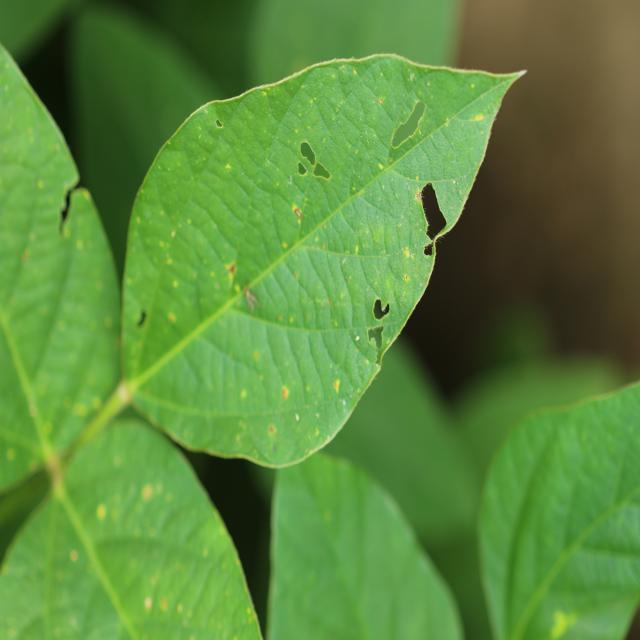Soybean: (120, 53, 523, 473)
downey_mildew: (25, 215, 248, 480), (257, 78, 466, 295), (168, 173, 365, 363), (80, 526, 246, 637), (221, 301, 351, 441), (43, 469, 146, 637), (2, 167, 78, 384), (11, 375, 117, 523), (391, 155, 463, 356), (218, 121, 294, 309), (496, 428, 562, 640), (547, 392, 640, 539), (293, 287, 384, 410), (88, 453, 195, 557), (0, 276, 57, 463), (347, 232, 423, 351), (446, 83, 515, 213), (307, 74, 386, 185), (337, 174, 427, 270), (179, 64, 331, 120), (507, 381, 638, 442), (210, 87, 294, 179), (134, 265, 199, 378), (146, 141, 211, 247), (150, 324, 234, 406), (272, 185, 335, 292), (213, 293, 389, 331), (214, 417, 344, 466), (330, 60, 411, 133), (252, 366, 325, 445), (157, 90, 255, 146), (279, 137, 327, 250), (191, 176, 254, 261), (278, 71, 351, 139), (73, 379, 134, 459), (283, 320, 333, 416), (156, 401, 346, 426), (243, 59, 364, 97), (38, 487, 67, 640), (291, 246, 346, 324), (118, 201, 138, 366), (429, 178, 476, 246), (582, 504, 640, 556), (387, 99, 430, 165), (141, 581, 198, 626), (245, 318, 387, 335), (92, 534, 169, 565), (305, 245, 429, 261), (228, 261, 261, 314), (368, 296, 392, 363), (351, 320, 382, 368), (298, 141, 330, 182), (386, 568, 402, 639), (60, 176, 82, 223), (427, 216, 451, 253), (549, 609, 576, 637), (402, 177, 468, 188), (347, 172, 365, 200), (467, 107, 496, 122), (244, 286, 260, 312), (225, 259, 238, 278), (136, 309, 147, 328), (75, 403, 87, 416), (248, 608, 257, 621), (22, 249, 30, 263), (29, 404, 37, 417), (6, 449, 15, 460), (415, 190, 423, 200), (234, 283, 240, 292), (445, 118, 450, 126)
